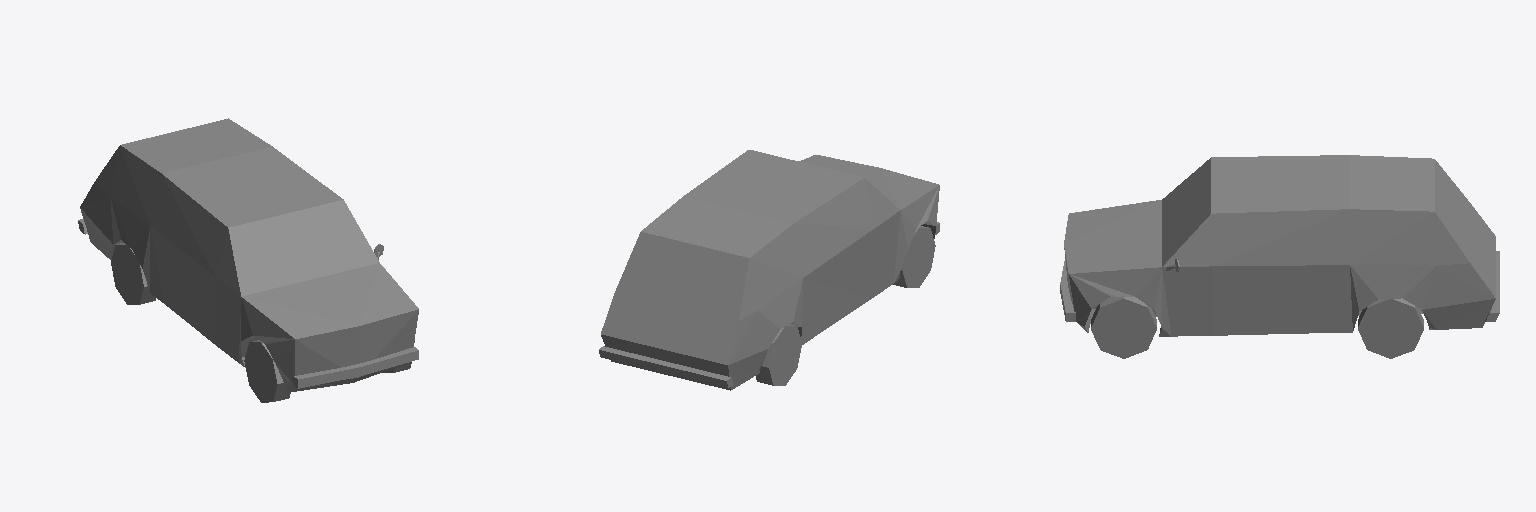
The model's file is Car.obj.
3 renders of one model, left to right at view 1: azimuth 30°, elevation 25°; view 2: azimuth 150°, elevation 25°; view 3: azimuth 270°, elevation 25°, orthographic.
Visible parts, largest first — view 1: Car; view 2: Car; view 3: Car.
Part boxes in pixels (left/top/right/bottom): Car: left=78, top=118, right=418, bottom=402; Car: left=599, top=150, right=939, bottom=390; Car: left=1060, top=155, right=1499, bottom=358.
Size of the model in its own units: 2.46 by 2.17 by 6.03.